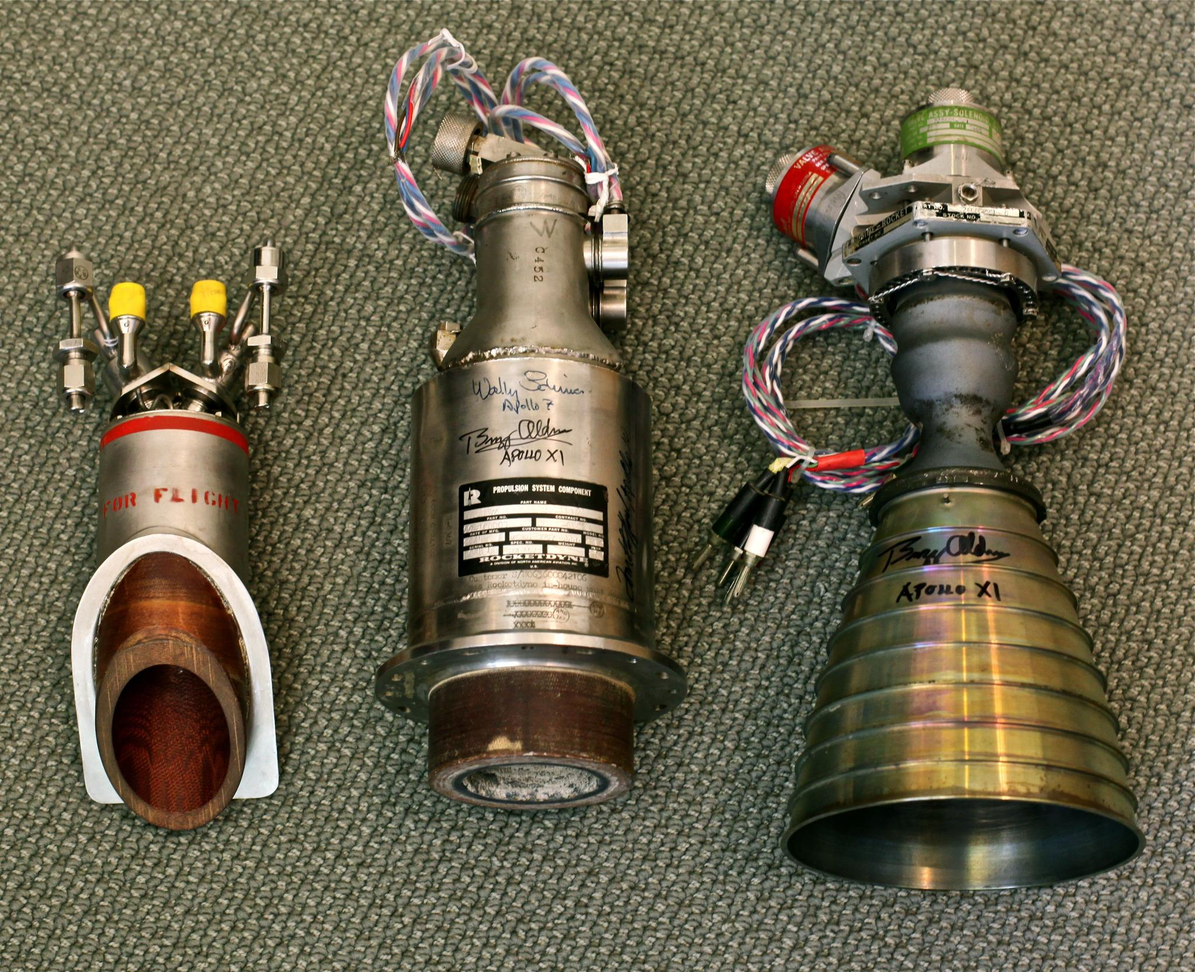thruster: (773, 785, 1150, 895)
